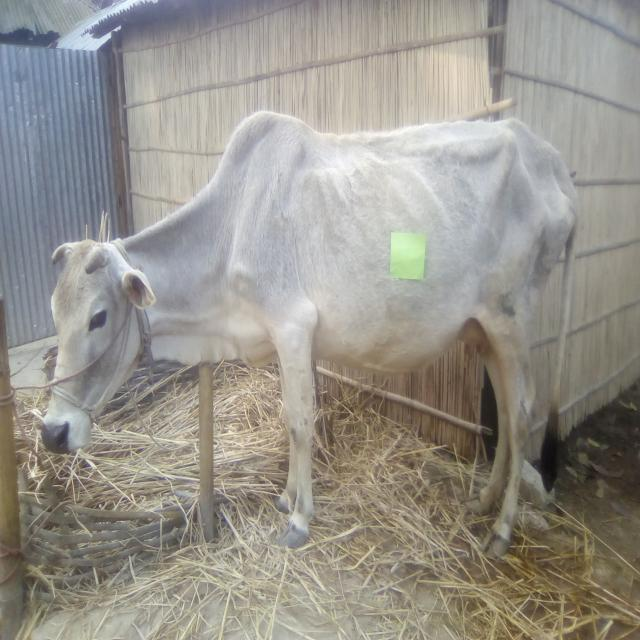badan_sapi: (248, 107, 575, 373)
sapi: (30, 99, 586, 565)
